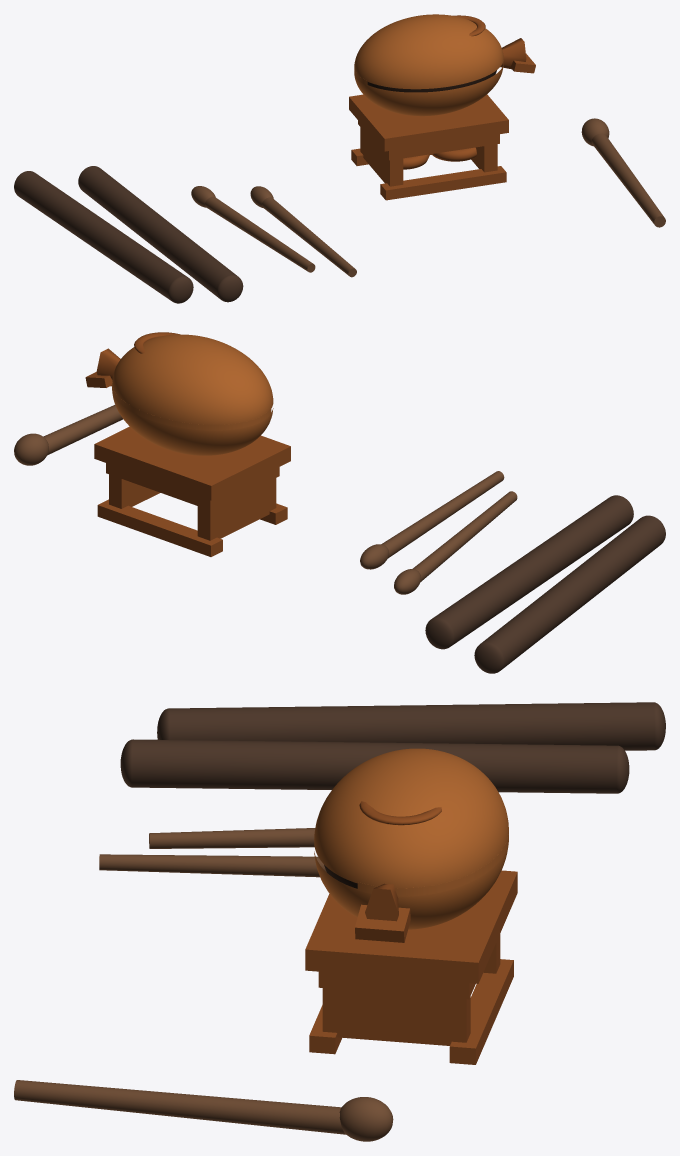
3 views of the same model, one above another, from view 1: azimuth 30°, elevation 25°; view 2: azimuth 150°, elevation 25°; view 3: azimuth 270°, elevation 25° (orthographic). The views are drawn at different scales.
Parts seen in each view (by area): view 1: body_upper, clave_body_1, clave_body_2, stand_top, body_lower, stand_runner_right, mallet_handle, beater_shaft_1, beater_shaft_2, stand_apron, stand_leg_left, stand_leg_right (+6 smaller); view 2: body_upper, clave_body_2, stand_top, clave_body_1, body_lower, stand_leg_left, stand_runner_left, beater_shaft_2, stand_apron, beater_shaft_1, mallet_handle, body_spine (+6 smaller); view 3: body_upper, clave_body_1, clave_body_2, stand_top, mallet_handle, stand_leg_right, beater_shaft_2, body_lower, beater_shaft_1, stand_runner_left, stand_apron, mallet_head (+5 smaller).
Part boxes in pixels (x1,y1,x2,y2): body_upper: (354, 14, 503, 89); clave_body_1: (14, 171, 186, 300); clave_body_2: (78, 166, 236, 298); stand_top: (349, 94, 508, 151); body_lower: (354, 65, 503, 116); stand_runner_right: (380, 166, 506, 200); mallet_handle: (591, 133, 665, 227); beater_shaft_1: (204, 196, 315, 272); beater_shaft_2: (262, 197, 356, 277); stand_apron: (358, 120, 499, 160); stand_leg_left: (360, 127, 403, 186); stand_leg_right: (471, 144, 497, 172); body_upper: (112, 334, 273, 425); clave_body_2: (432, 495, 633, 645); stand_top: (94, 426, 290, 500); clave_body_1: (480, 516, 665, 669); body_lower: (112, 392, 273, 455); stand_leg_left: (197, 478, 276, 540); stand_runner_left: (97, 499, 222, 556); beater_shaft_2: (381, 471, 504, 558); stand_apron: (106, 463, 279, 510); beater_shaft_1: (412, 491, 517, 581); mallet_handle: (43, 405, 122, 455); body_spine: (112, 382, 271, 430); body_upper: (314, 748, 508, 889); clave_body_1: (169, 702, 654, 750); clave_body_2: (132, 739, 617, 793); stand_top: (305, 870, 517, 983); mallet_handle: (14, 1080, 345, 1134); stand_leg_right: (322, 988, 470, 1045); beater_shaft_2: (99, 854, 326, 877); body_lower: (314, 841, 508, 929); beater_shaft_1: (149, 828, 315, 848); stand_runner_left: (449, 959, 513, 1064); stand_apron: (318, 971, 475, 999); mallet_head: (339, 1097, 393, 1141).
Bounding box in the file's own units: 0.5837 × 0.1657 × 0.3925.
